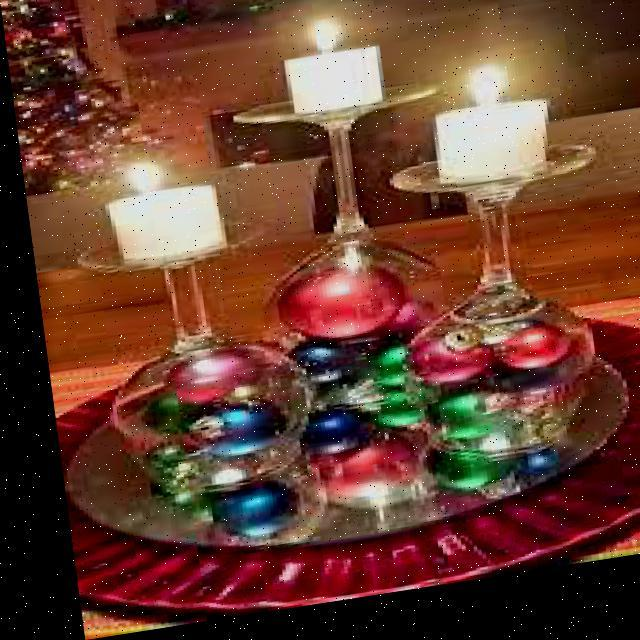Fire: (444, 74, 514, 130), (293, 22, 354, 70), (106, 158, 174, 198)
